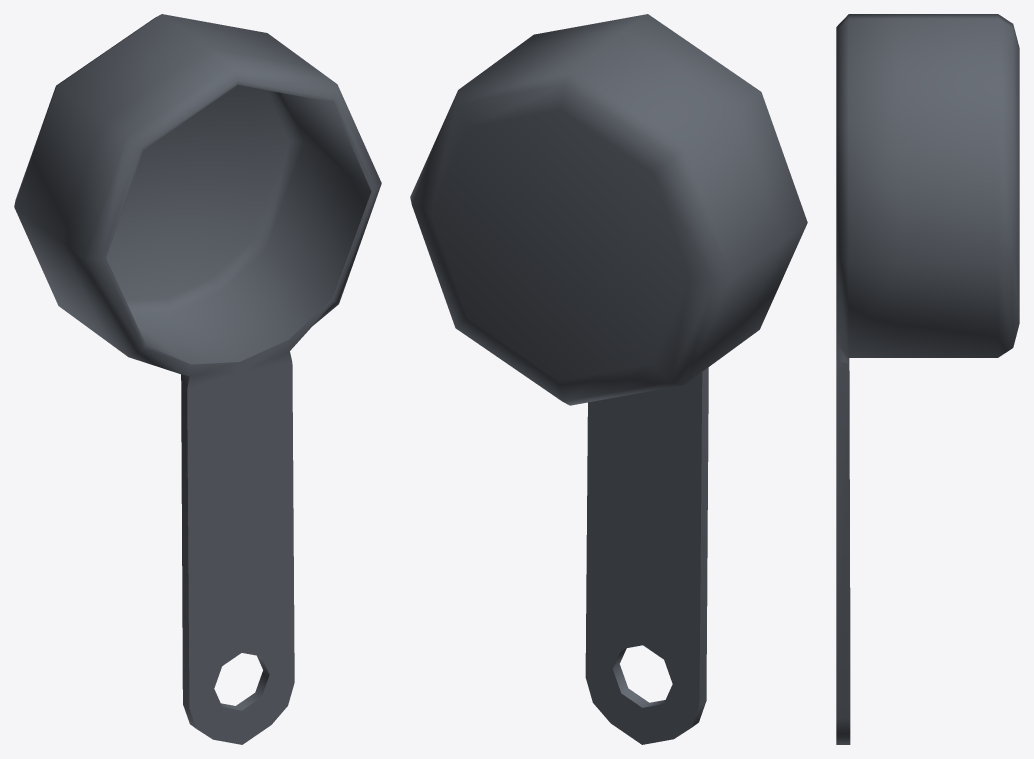
File: mspoon_measuring_spoons_large_002.glb
The picture shows the model from 3 angles, left to right: view 1: azimuth 30°, elevation 25°; view 2: azimuth 150°, elevation 25°; view 3: azimuth 270°, elevation 25°; orthographic projection. The views are drawn at different scales.
Visible parts, largest first — view 1: mspoon measuring spoons large.002; view 2: mspoon measuring spoons large.002; view 3: mspoon measuring spoons large.002.
Part boxes in pixels (x1,y1,x2,y2): mspoon measuring spoons large.002: (14, 14, 381, 744); mspoon measuring spoons large.002: (410, 14, 807, 744); mspoon measuring spoons large.002: (836, 14, 1019, 744).
Bounding box in the file's own units: 1.07 × 2.33 × 0.5353.
1 material, 1 textured.
